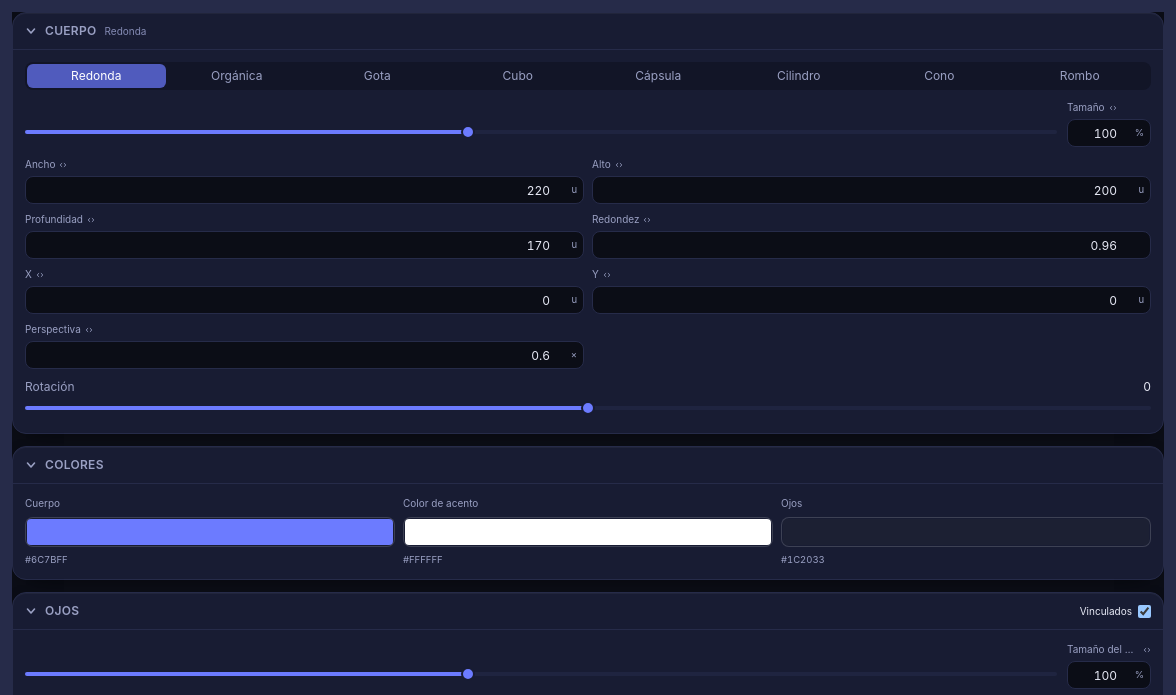
look card headers (docs/05 §2) › says which family the surface is while the card is shut
Click the button "Cuerpo Redonda" at (71, 30), box [13,13,1163,49]
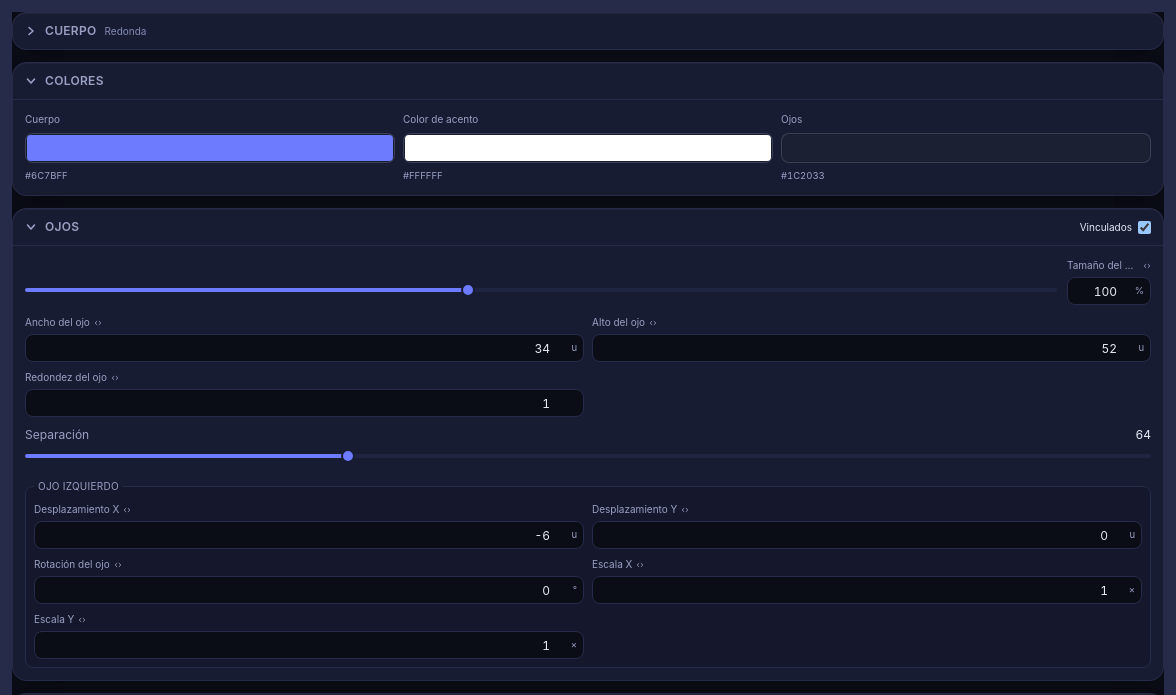
Now the button "Cuerpo Redonda" is collapsed, box [13,13,1163,49]
